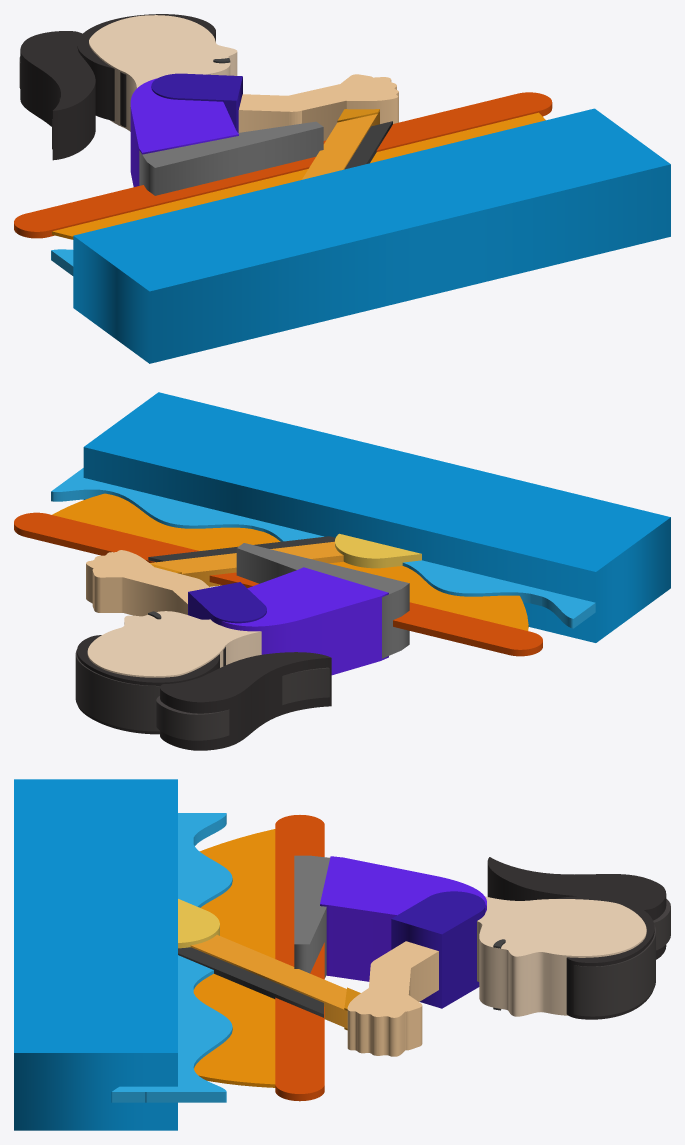
File: emoji_u1f6a3_1f3fb_200d_2640.glb
3 views of the same model, one above another, from view 1: azimuth 30°, elevation 25°; view 2: azimuth 150°, elevation 25°; view 3: azimuth 270°, elevation 25° (orthographic). The views are drawn at different scales.
Parts seen in each view (by area): view 1: emoji_u1f6a3_1f3fb_200d_2640; view 2: emoji_u1f6a3_1f3fb_200d_2640; view 3: emoji_u1f6a3_1f3fb_200d_2640.
Part boxes in pixels (x1,y1,x2,y2): emoji_u1f6a3_1f3fb_200d_2640: (14,14,670,363); emoji_u1f6a3_1f3fb_200d_2640: (14,392,670,750); emoji_u1f6a3_1f3fb_200d_2640: (14,779,670,1130).
Size of the model in its own units: 0.0339 by 0.0044 by 0.0336.
